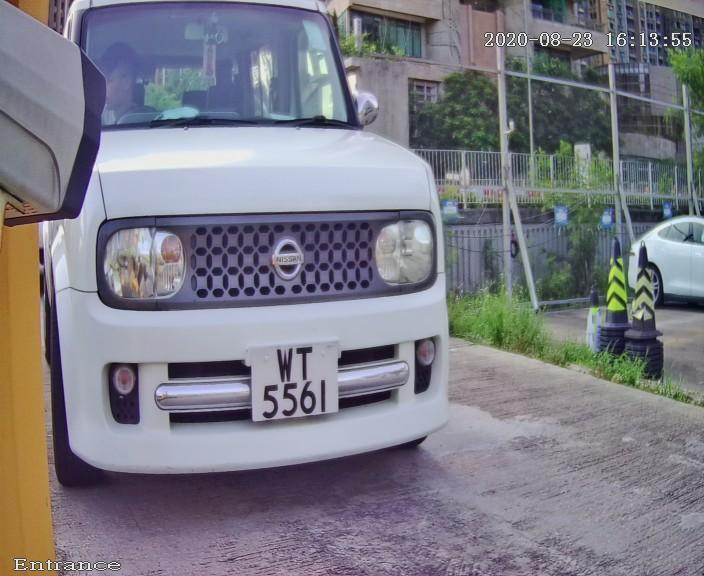Car: (7, 1, 503, 528)
License Plate: (233, 332, 353, 438)
